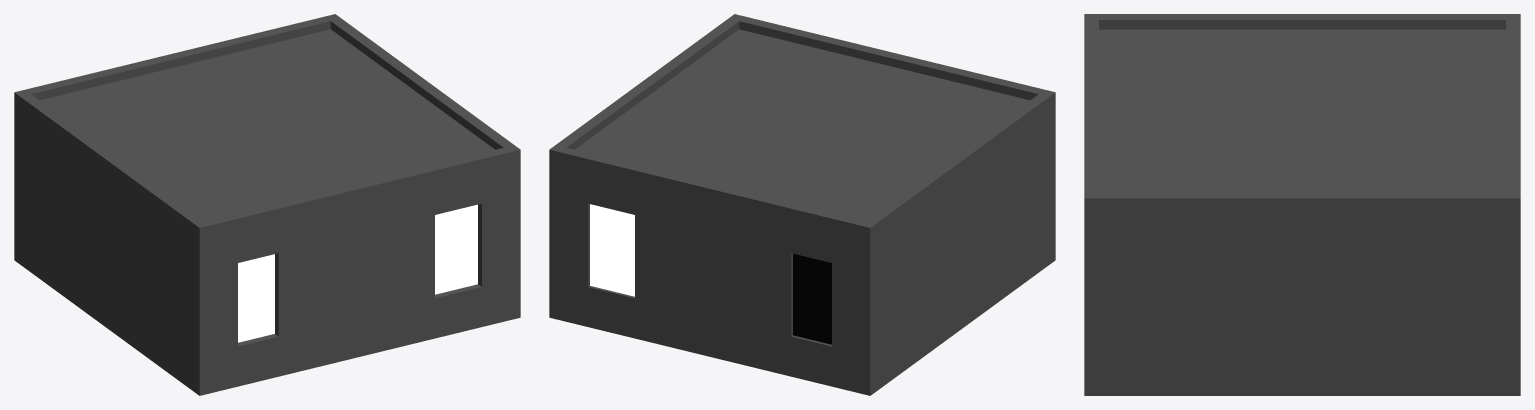
Rendered from Immeuble3MHaut.fbx.
The picture shows the model from 3 angles, left to right: view 1: azimuth 30°, elevation 25°; view 2: azimuth 150°, elevation 25°; view 3: azimuth 270°, elevation 25°; orthographic projection. The views are drawn at different scales.
Visible parts, largest first — view 1: Cube.029; view 2: Cube.029; view 3: Cube.029.
Part boxes in pixels (box(x1,y1,x2,y2)): Cube.029: box(14, 14, 520, 395); Cube.029: box(549, 14, 1055, 395); Cube.029: box(1084, 14, 1520, 395).
Bounding box in the file's own units: 2000 × 1000 × 2000.
